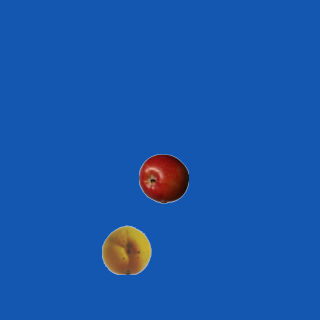Apple Braeburn: (138, 153, 188, 203)
Peach 2: (101, 224, 151, 274)
